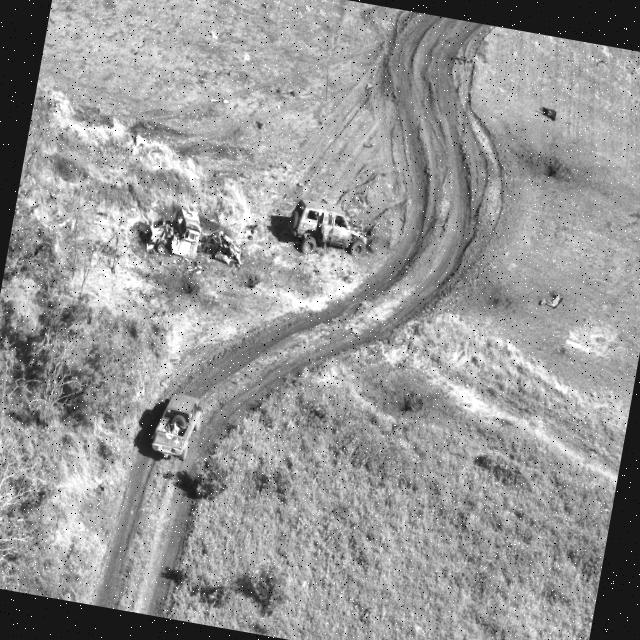Destroyed: (144, 201, 248, 277)
Vehicle: (285, 199, 374, 266), (150, 391, 210, 469)
